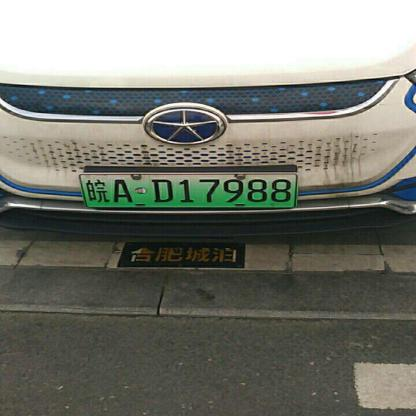lp: (81, 174, 295, 206)
